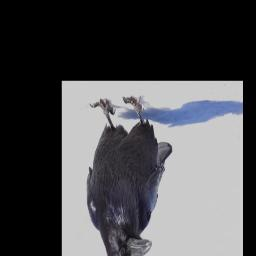Crow: (86, 95, 174, 256)
